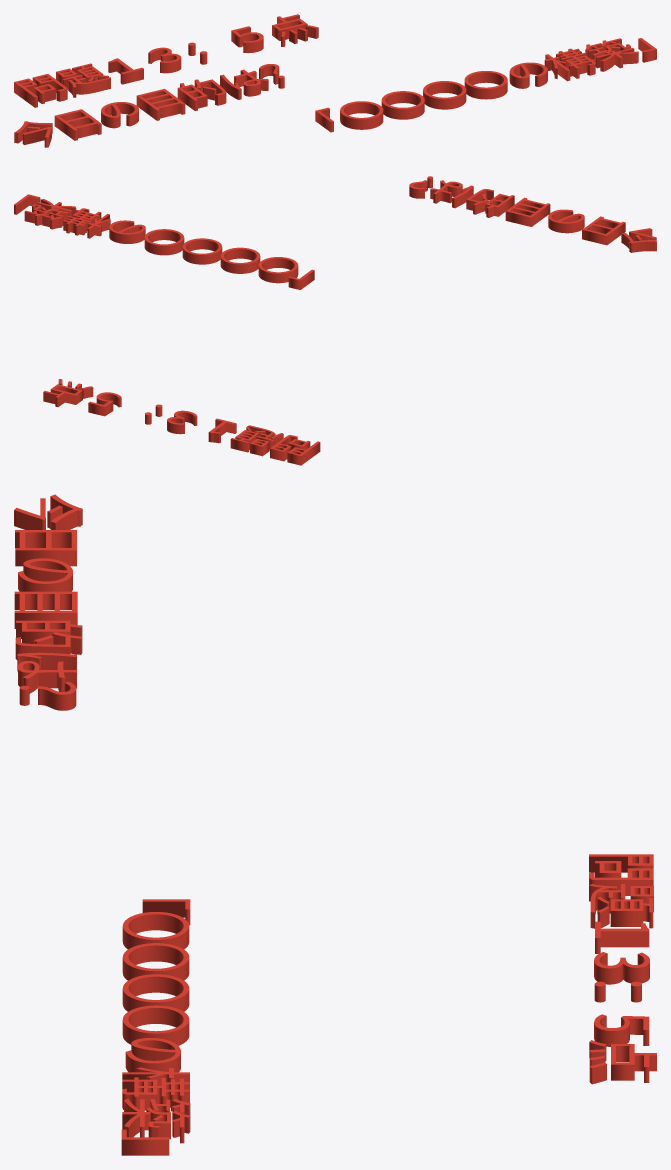
3 renders of one model, top to bottom at view 1: azimuth 30°, elevation 25°; view 2: azimuth 150°, elevation 25°; view 3: azimuth 270°, elevation 25°, orthographic. The views are drawn at different scales.
Visible parts, largest first — view 1: テキスト.003, テキスト.001, テキスト.004; view 2: テキスト.003, テキスト.001, テキスト.004; view 3: テキスト.003, テキスト.001, テキスト.004.
Boxes of the visible parts, bbox=[...] form: テキスト.003: bbox=[315, 38, 656, 132]; テキスト.001: bbox=[14, 64, 284, 147]; テキスト.004: bbox=[14, 14, 318, 107]; テキスト.003: bbox=[14, 194, 314, 289]; テキスト.001: bbox=[409, 176, 656, 252]; テキスト.004: bbox=[43, 379, 320, 465]; テキスト.003: bbox=[121, 899, 190, 1155]; テキスト.001: bbox=[14, 494, 82, 710]; テキスト.004: bbox=[589, 854, 656, 1084].
Bounding box in the file's own units: 16.02 × 3.44 × 8.71.
